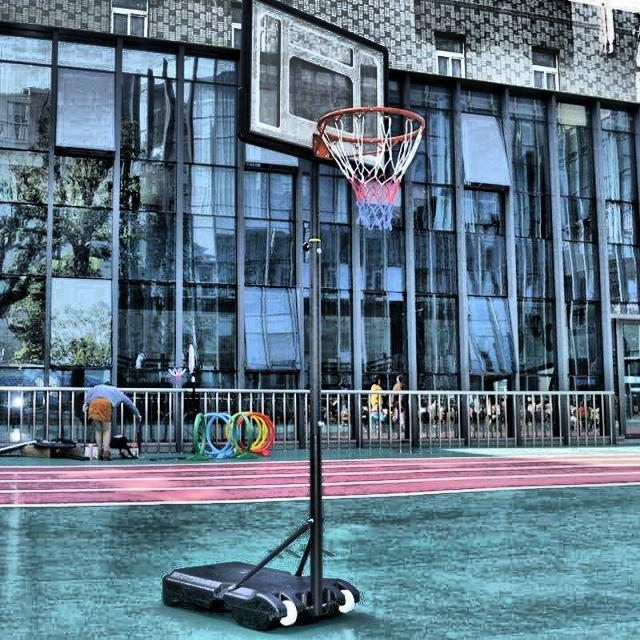rim: (318, 104, 426, 228)
